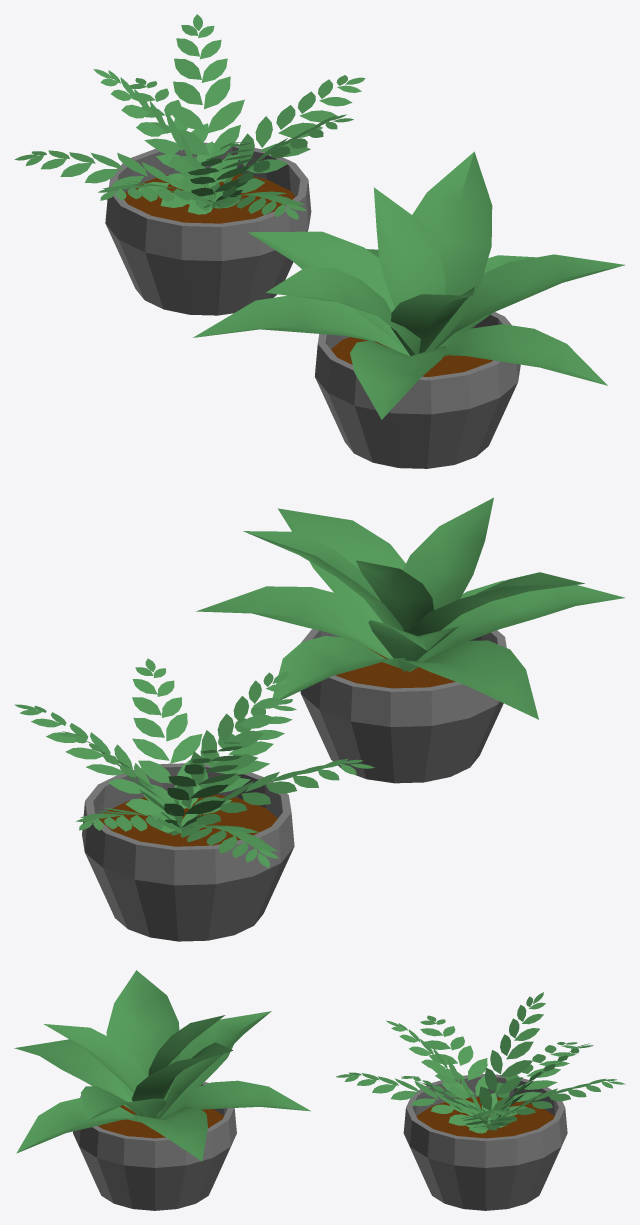
Rendered from plants.glb.
The picture shows the model from 3 angles, top to bottom: view 1: azimuth 30°, elevation 25°; view 2: azimuth 150°, elevation 25°; view 3: azimuth 270°, elevation 25°; orthographic projection. The views are drawn at different scales.
Parts seen in each view (by area): view 1: Plant 2, Plant 1; view 2: Plant 2, Plant 1; view 3: Plant 2, Plant 1.
Part boxes in pixels (bbox=[...]): Plant 2: bbox=[193, 151, 624, 468]; Plant 1: bbox=[14, 14, 365, 315]; Plant 2: bbox=[196, 497, 625, 783]; Plant 1: bbox=[14, 658, 374, 941]; Plant 2: bbox=[14, 970, 310, 1210]; Plant 1: bbox=[336, 992, 625, 1210].
Bounding box in the file's own units: 5.5 × 3.36 × 10.54.
